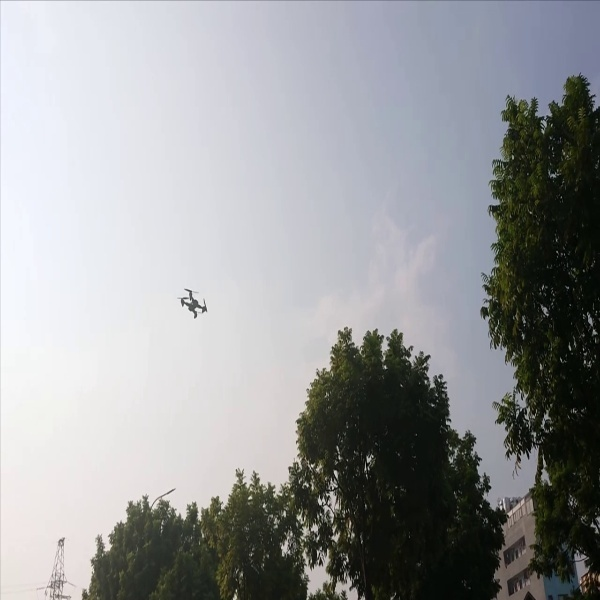drone: (174, 283, 213, 330)
